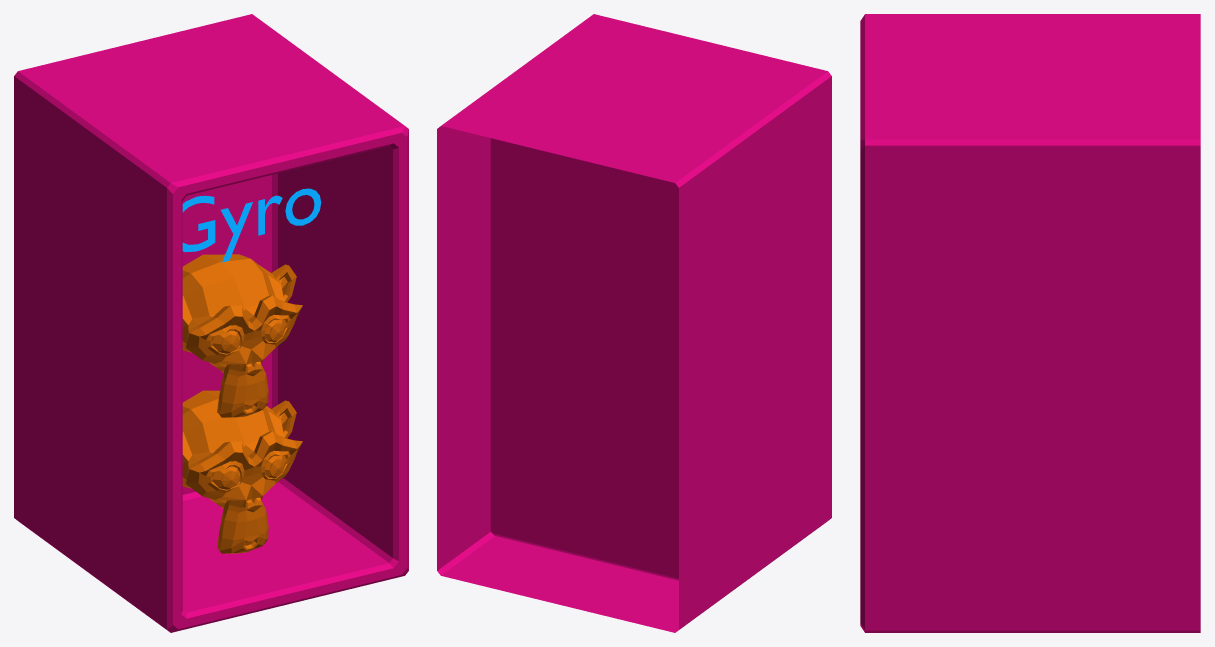
File: gyro_model.glb
3 views of the same model, side by side, from view 1: azimuth 30°, elevation 25°; view 2: azimuth 150°, elevation 25°; view 3: azimuth 270°, elevation 25° (orthographic). The views are drawn at different scales.
Visible parts, largest first — view 1: Plane, Suzanne, Suzanne.001, Text; view 2: Plane; view 3: Plane.
Part boxes in pixels (x1,y1,x2,y2): Plane: (14,14,408,632); Suzanne: (182,254,302,417); Suzanne.001: (182,390,302,553); Text: (182,188,321,262); Plane: (437,14,831,632); Plane: (860,14,1200,632).
Bounding box in the file's own units: 0.9 × 1.6 × 1.
